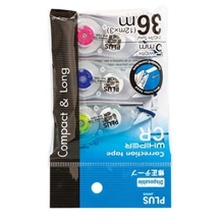correction_fluid: (53, 53, 162, 103), (52, 98, 162, 146), (55, 16, 159, 61)
plastic_bag: (47, 6, 173, 210)
